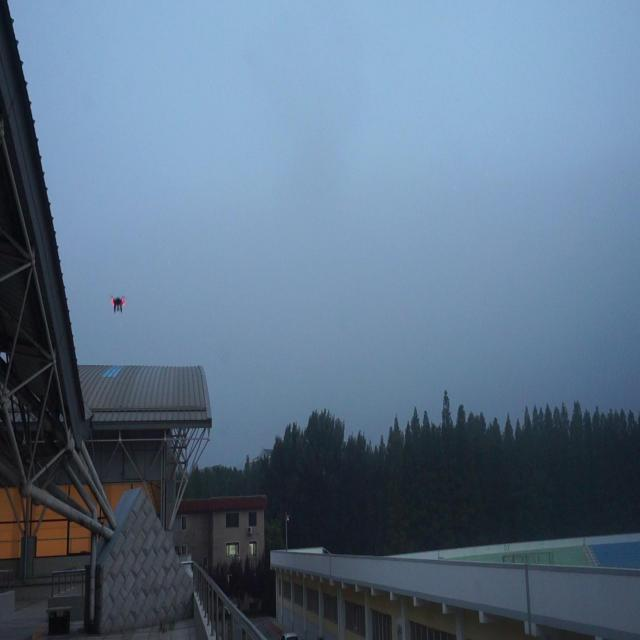UAV: (111, 296, 125, 314)
